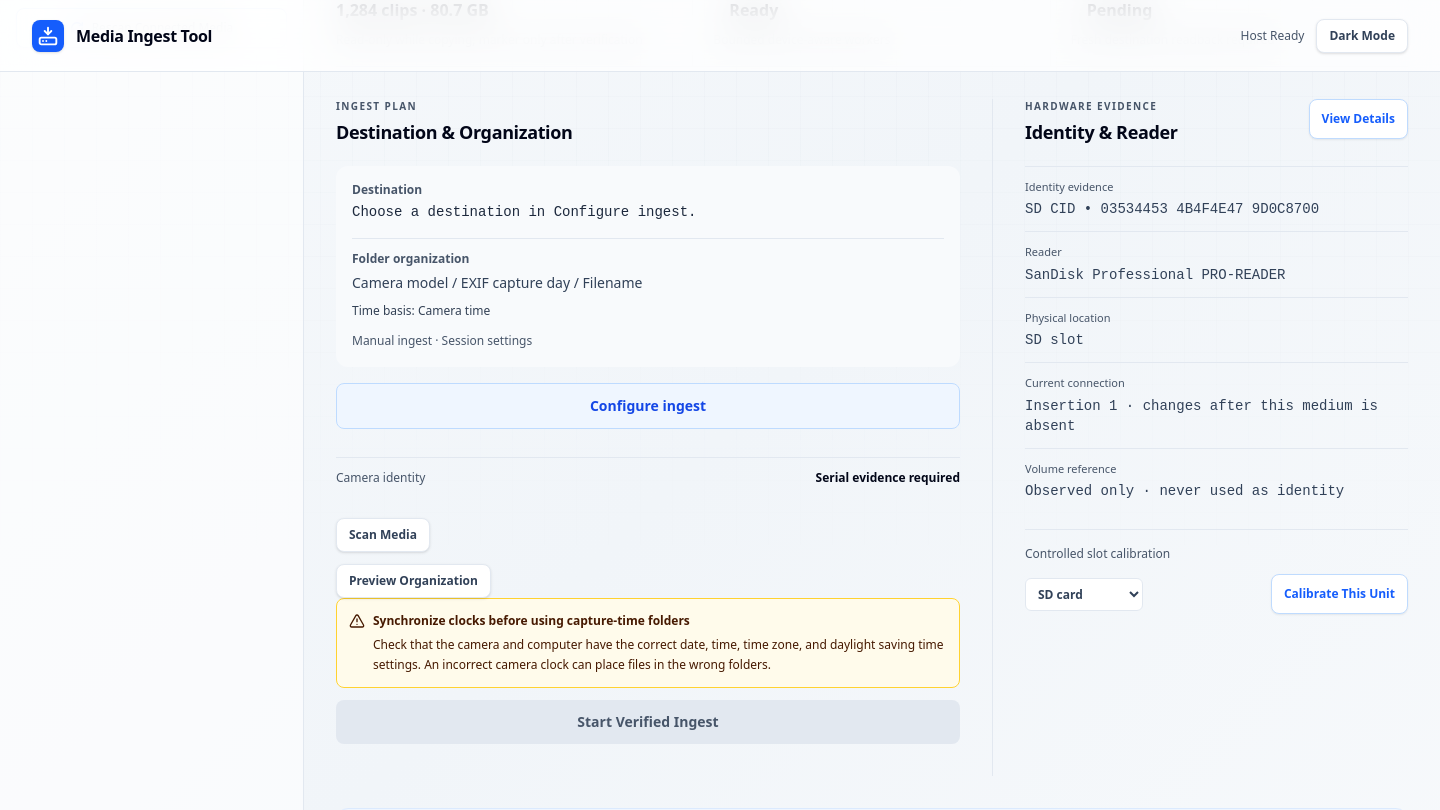
it: replaces inline editors with a saved summary and a configuration dialog
(page scrolled)
Check: the field labelled "Destination directory" is not shown
Check: the button "Start Verified Ingest" is disabled, box [336,700,960,744]
Click the button "Configure ingest": (648, 406) [336,382,960,428]
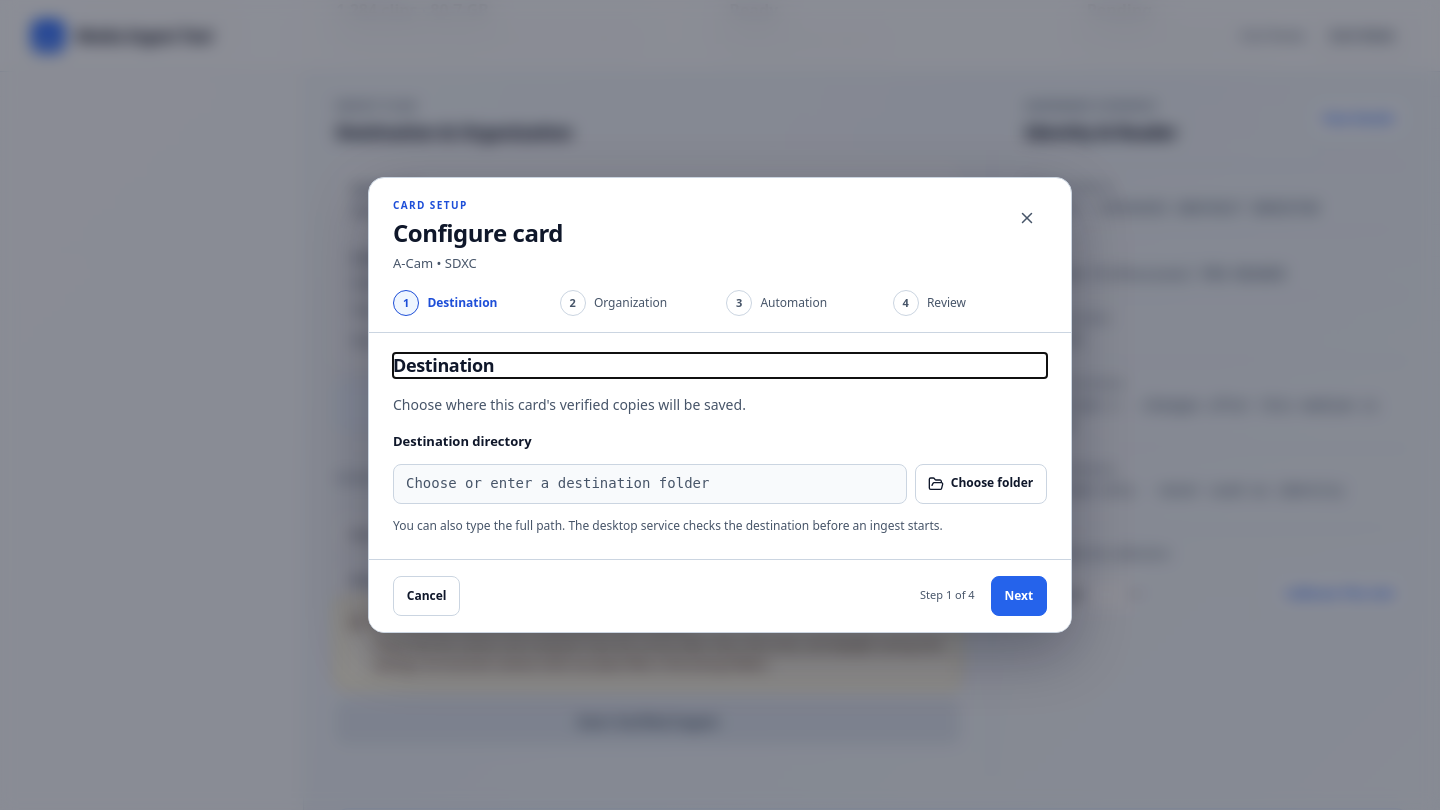
Check: the heading "Destination" is shown, box [393,353,494,377]
Check: the field labelled "Destination directory" is empty, box [393,464,907,504]
Check: the list named "Configuration steps" is shown, box [369,290,1071,333]
